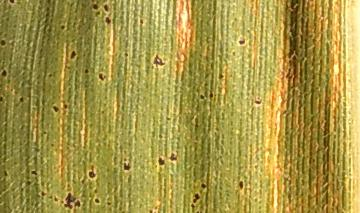tarspot: (61, 189, 82, 213), (147, 52, 169, 68), (118, 158, 136, 175), (188, 189, 203, 205), (84, 167, 99, 181), (203, 89, 217, 104), (236, 35, 251, 49), (167, 148, 180, 164), (250, 96, 267, 108), (95, 70, 109, 84), (55, 20, 70, 33), (67, 47, 79, 63), (99, 1, 113, 14), (49, 100, 60, 116), (101, 13, 114, 26), (236, 176, 247, 191), (155, 155, 167, 168), (87, 2, 100, 13), (28, 167, 40, 178), (1, 66, 10, 80), (196, 91, 207, 102), (62, 100, 72, 112), (199, 179, 209, 191), (216, 70, 226, 82), (143, 204, 156, 213), (92, 196, 103, 206), (1, 168, 10, 180), (23, 178, 34, 187), (16, 95, 26, 104), (82, 67, 91, 77), (137, 17, 146, 27), (1, 37, 9, 48), (1, 93, 5, 106), (7, 1, 16, 5)
